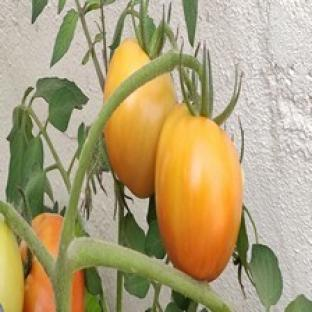Tomato: (156, 105, 242, 281), (104, 74, 176, 197), (0, 214, 23, 311), (24, 257, 55, 311)
